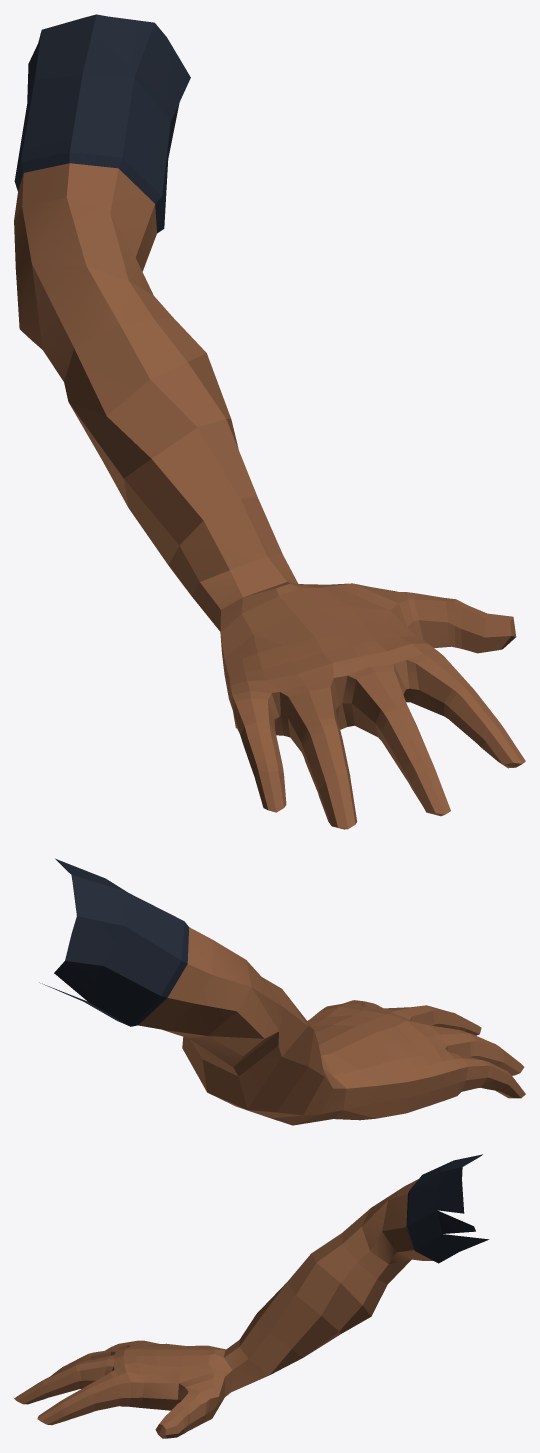
Rendered from kartik-arm.glb.
3 renders of one model, top to bottom at view 1: azimuth 30°, elevation 25°; view 2: azimuth 150°, elevation 25°; view 3: azimuth 270°, elevation 25°, orthographic. The views are drawn at different scales.
Parts seen in each view (by area): view 1: KartikArm; view 2: KartikArm; view 3: KartikArm.
Boxes of the visible parts, x1,y1,x2,y2 form: KartikArm: [14, 14, 525, 829]; KartikArm: [39, 858, 525, 1125]; KartikArm: [14, 1154, 489, 1438].
Size of the model in its own units: 0.2349 by 0.3431 by 0.5791.
